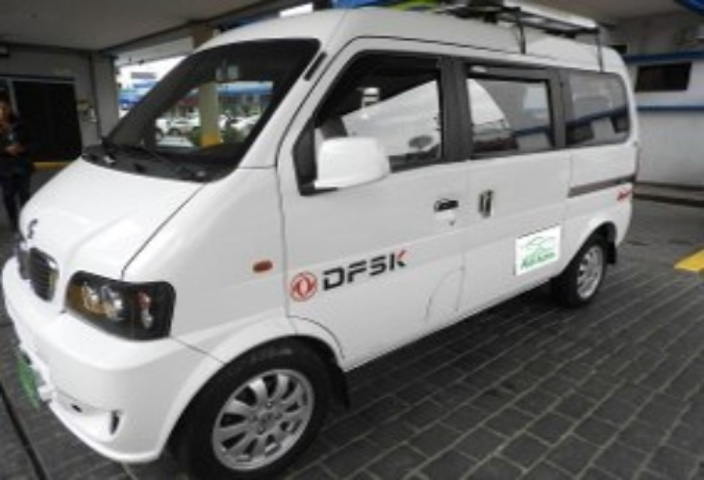van: (20, 3, 647, 480)
